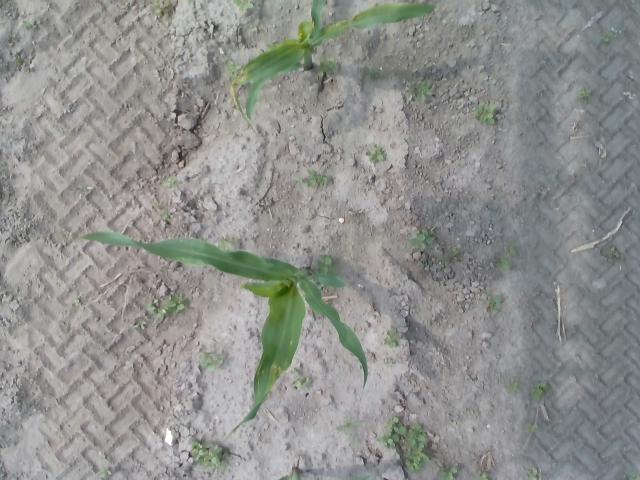Maize: (78, 232, 370, 438), (231, 0, 435, 132), (278, 464, 303, 480)
Weeds: (394, 420, 428, 470), (192, 444, 223, 466), (409, 79, 434, 103), (474, 103, 497, 123), (411, 231, 433, 251), (302, 169, 326, 187), (294, 365, 310, 388), (438, 462, 458, 480), (378, 430, 400, 446), (502, 247, 517, 267), (383, 332, 401, 348), (366, 149, 386, 163), (320, 58, 340, 72), (444, 248, 460, 264), (200, 350, 218, 364), (318, 256, 332, 274), (580, 88, 594, 104), (224, 61, 240, 75), (487, 296, 505, 308), (168, 297, 184, 310), (218, 234, 232, 248), (236, 2, 253, 13), (608, 246, 618, 262), (146, 296, 158, 308), (604, 32, 616, 44), (534, 381, 544, 393), (157, 3, 170, 12), (476, 471, 488, 480), (167, 178, 178, 187), (134, 321, 148, 328), (510, 380, 519, 390), (75, 300, 84, 308)
